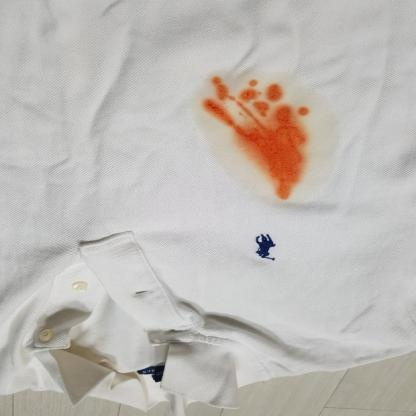kimchi: (201, 76, 336, 202), (237, 131, 306, 163), (262, 163, 304, 201), (194, 99, 235, 125), (206, 76, 231, 99), (251, 100, 272, 123), (276, 101, 297, 124), (266, 82, 286, 105), (240, 89, 261, 105), (301, 105, 311, 119), (250, 78, 262, 88)
